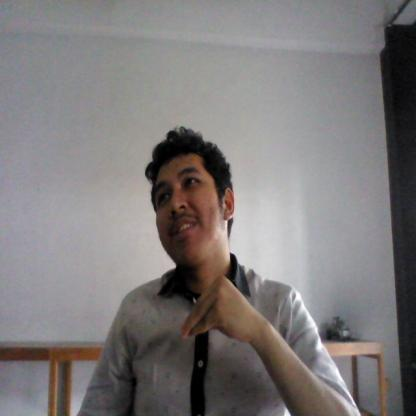Malam: (172, 270, 273, 362)
